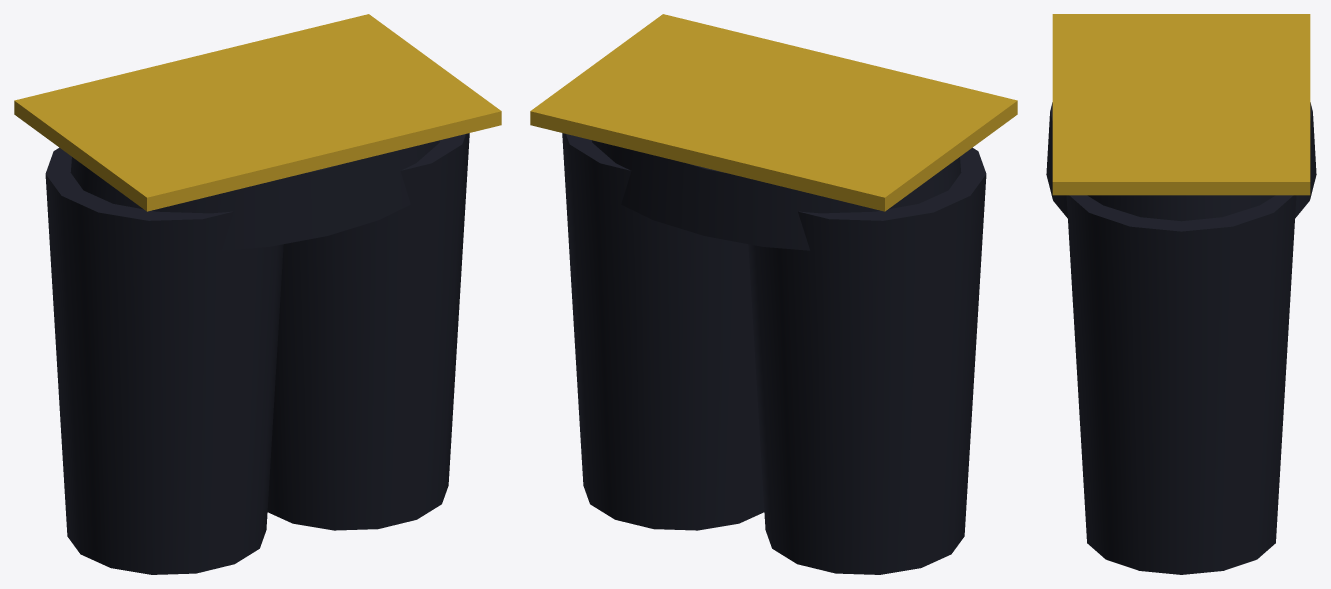
The model's file is bottom_ancient_3.glb.
3 renders of one model, left to right at view 1: azimuth 30°, elevation 25°; view 2: azimuth 150°, elevation 25°; view 3: azimuth 270°, elevation 25°, orthographic. The views are drawn at different scales.
Bounding box in the file's own units: 0.4592 × 0.4524 × 0.2818.
